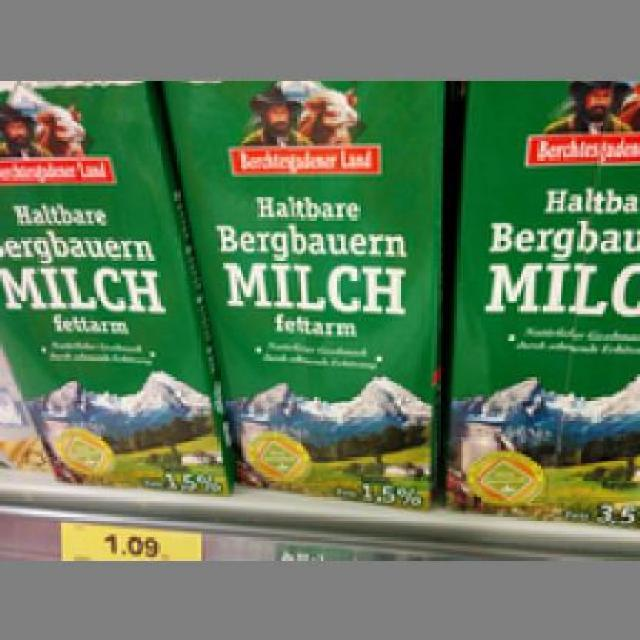Milk: (166, 77, 443, 523), (0, 74, 237, 494), (442, 80, 638, 523)
